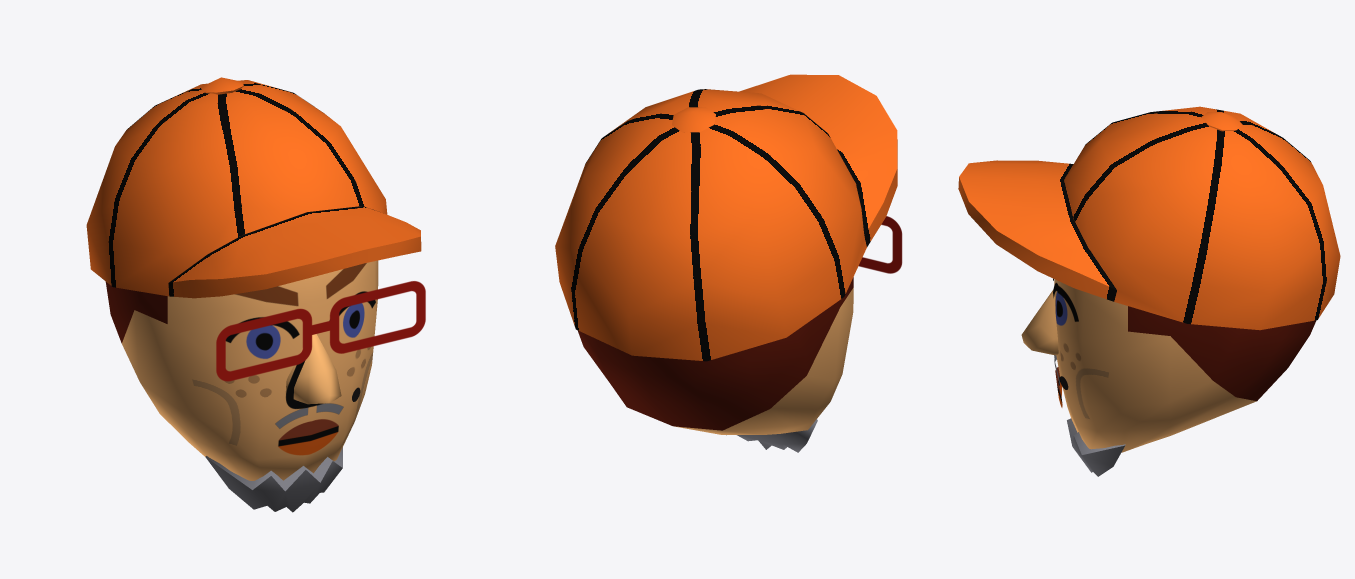
File: bro-inline-mask1.glb
3 views of the same model, side by side, from view 1: azimuth 30°, elevation 25°; view 2: azimuth 150°, elevation 25°; view 3: azimuth 270°, elevation 25° (orthographic). The views are drawn at different scales.
Parts seen in each view (by area): view 1: OpaCap, OpaFaceline, CharModel, XluGlass, OpaBeard, OpaNose, OpaHair; view 2: OpaCap, OpaHair, OpaFaceline, XluGlass, OpaBeard; view 3: OpaCap, OpaFaceline, OpaHair, OpaNose, OpaBeard, CharModel.
Boxes of the visible parts, x1=… form: OpaCap: x1=86, y1=77, x2=421, y2=298; OpaFaceline: x1=122, y1=260, x2=378, y2=480; CharModel: x1=225, y1=263, x2=375, y2=455; XluGlass: x1=216, y1=281, x2=425, y2=381; OpaBeard: x1=205, y1=447, x2=342, y2=512; OpaNose: x1=285, y1=334, x2=341, y2=404; OpaHair: x1=105, y1=282, x2=167, y2=343; OpaCap: x1=555, y1=74, x2=897, y2=361; OpaHair: x1=577, y1=277, x2=853, y2=430; OpaFaceline: x1=674, y1=288, x2=853, y2=434; XluGlass: x1=858, y1=216, x2=902, y2=273; OpaBeard: x1=726, y1=419, x2=817, y2=452; OpaCap: x1=958, y1=106, x2=1340, y2=330; OpaFaceline: x1=1054, y1=279, x2=1256, y2=452; OpaHair: x1=1128, y1=306, x2=1316, y2=401; OpaNose: x1=1021, y1=289, x2=1058, y2=355; OpaBeard: x1=1067, y1=418, x2=1125, y2=476; CharModel: x1=1053, y1=278, x2=1078, y2=407.
Bounding box in the file's own units: 9.19 × 10.03 × 8.11.
16 materials, 12 textured.
